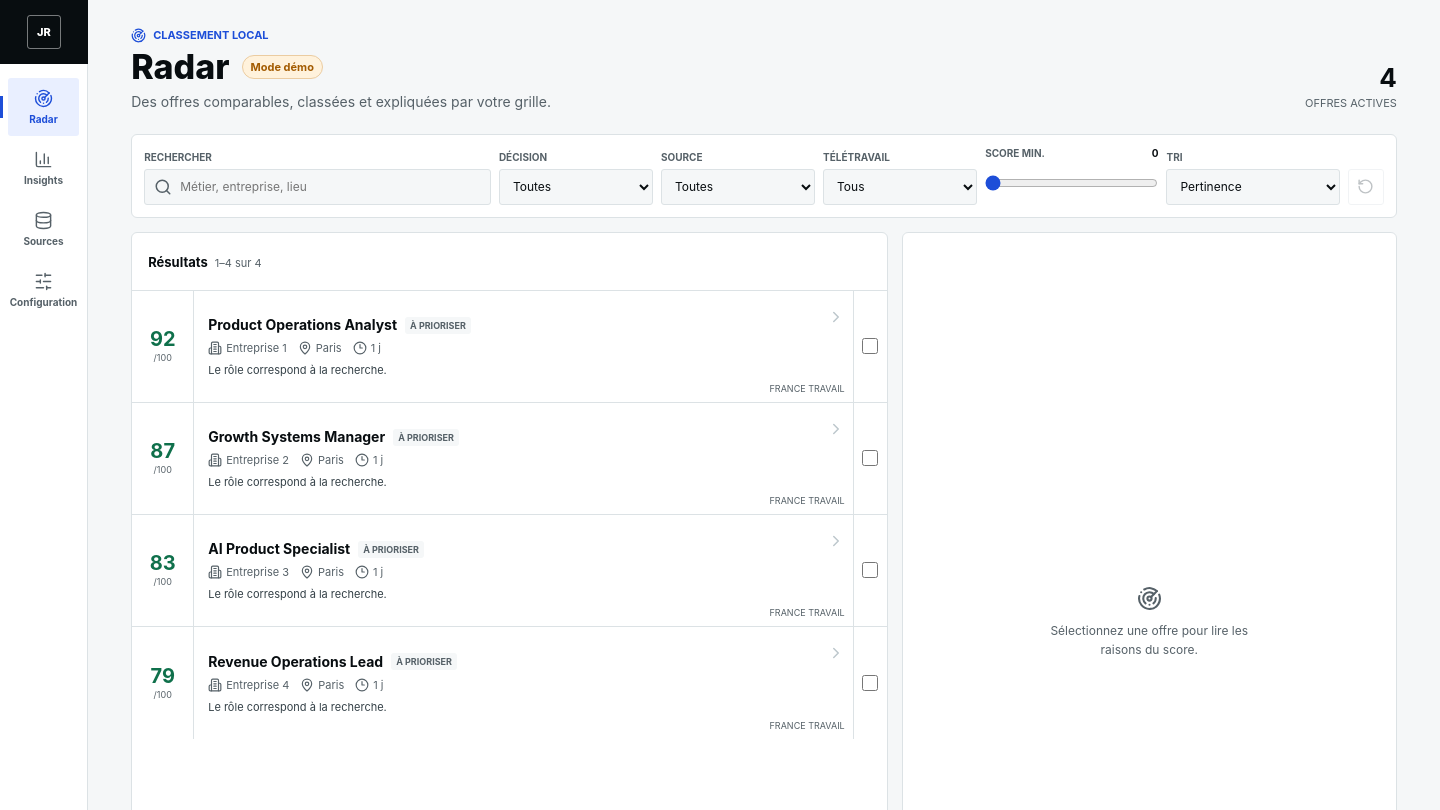
it: Radar public › limite la comparaison à trois offres et affiche le contrat comparé
expect the text "Product Operations Analyst" is shown: met, box [208,316,397,334]
Click the checkbox named "comparer" in the row of "92".
click(870, 346)  # box [862,338,878,354]
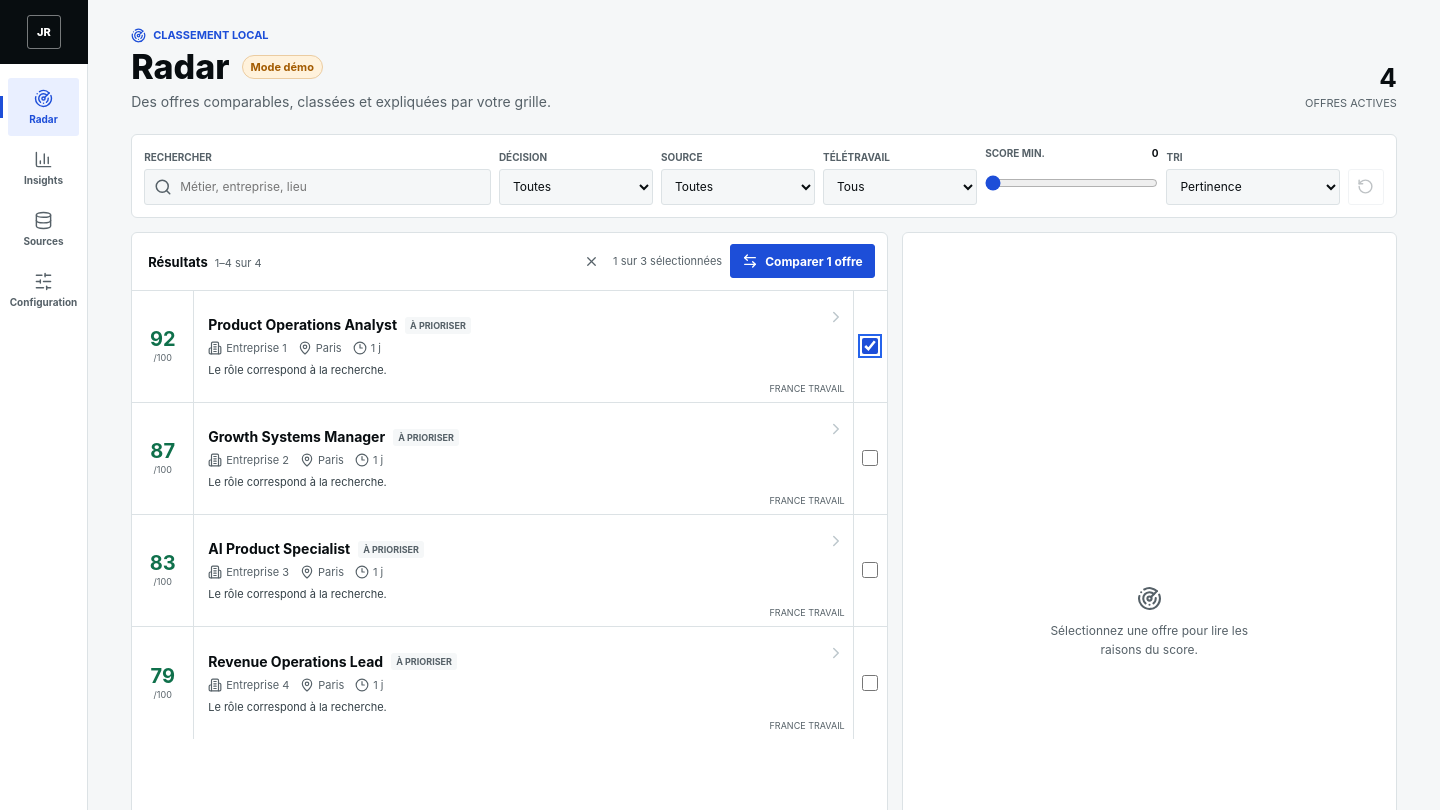
Click the checkbox named "comparer" in the row of "87".
click(870, 458)  # box [862,450,878,466]
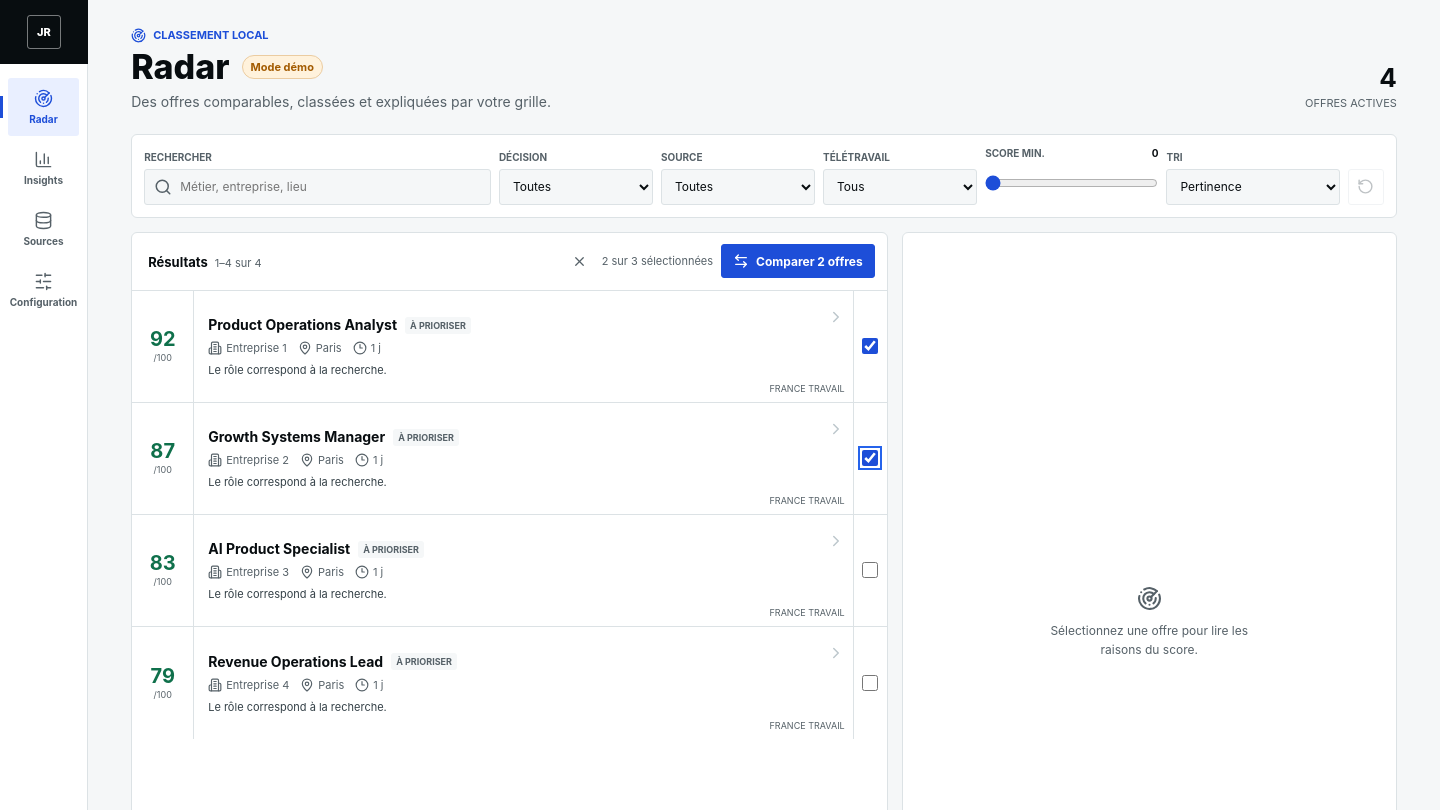
Click the checkbox named "comparer" in the row of "83".
click(870, 570)  # box [862,562,878,578]
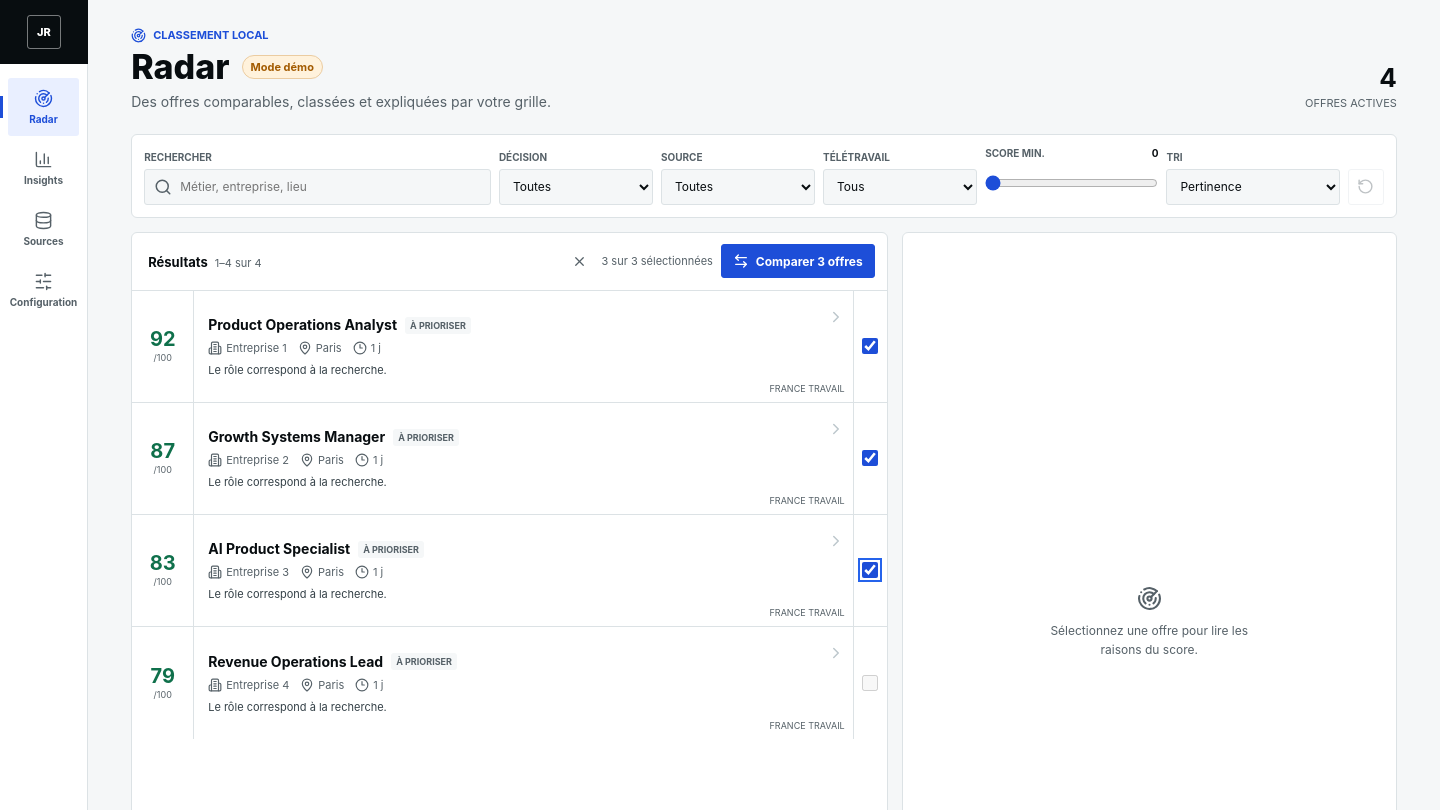
expect the checkbox named "comparer" in the row of "79" is disabled: met, box [862,675,878,691]
expect the text "3 sur 3 sélectionnées" is shown: met, box [602,254,713,268]
Click the button "Comparer 3 offres".
click(798, 261)  # box [721,244,875,278]
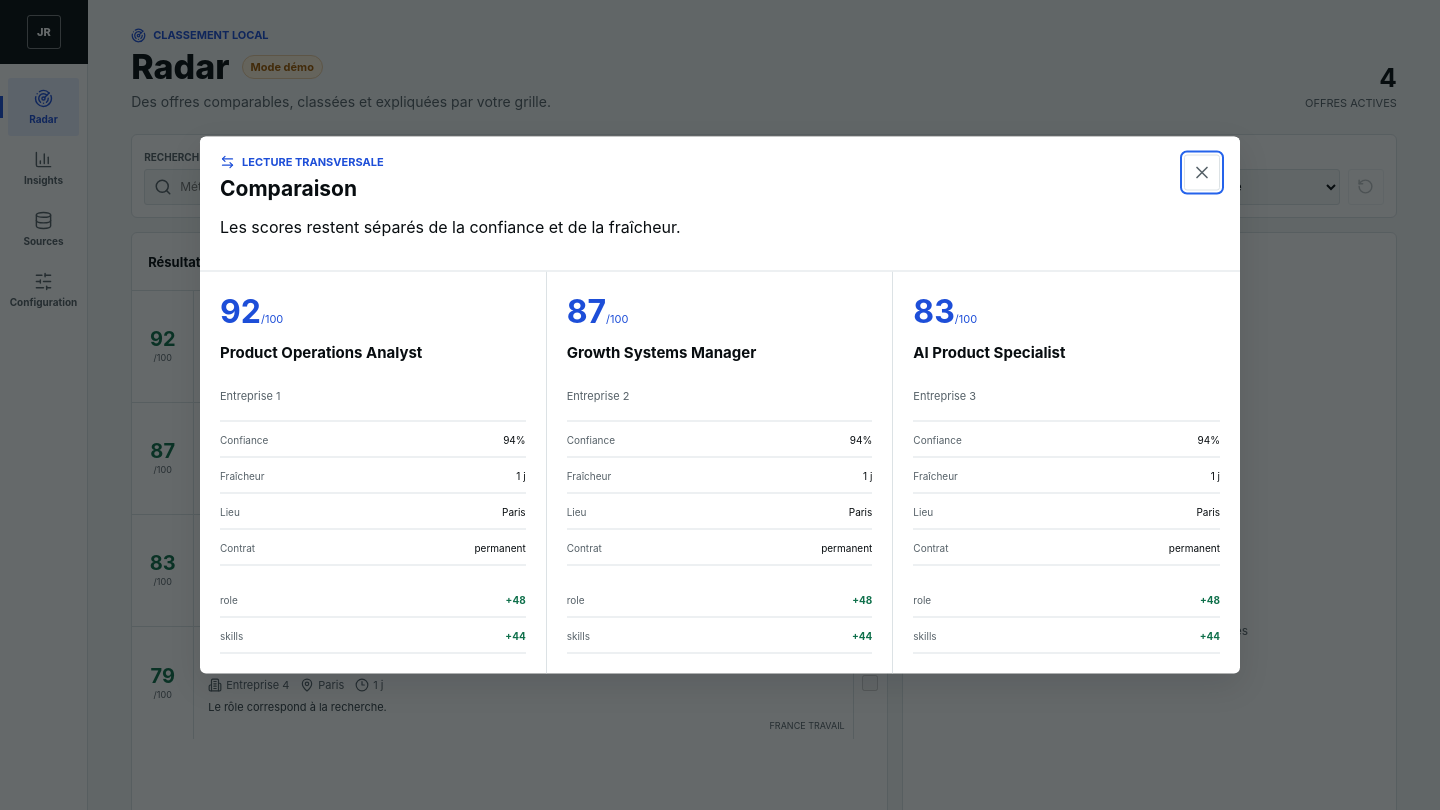
expect the heading "Product Operations Analyst" is shown: met, box [220,342,422,362]
expect the heading "Growth Systems Manager" is shown: met, box [567,342,756,362]
expect the heading "AI Product Specialist" is shown: met, box [913,342,1065,362]
